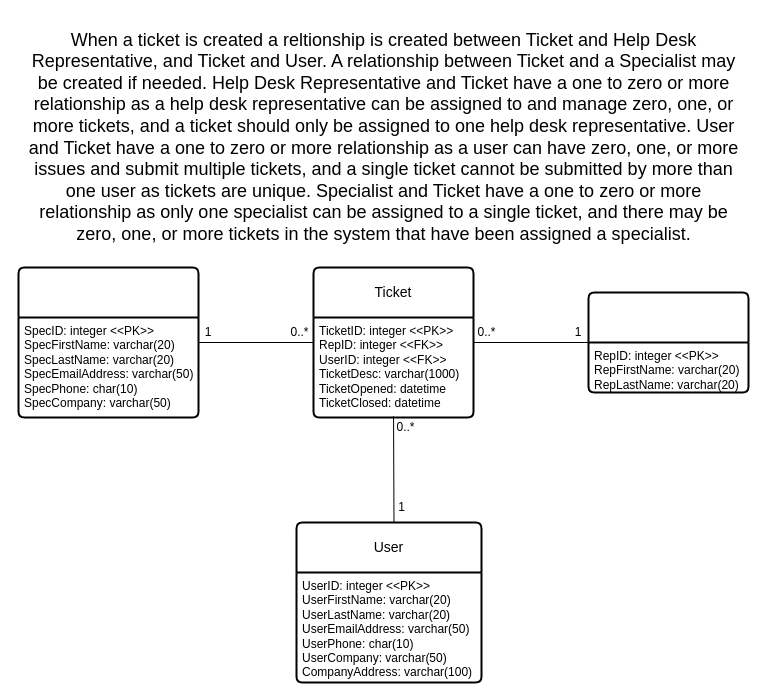
This 766x700 diagram has some shape labels left out. The box of each missing label's shape, as (x1, y1, x2, y2) in pixels:
Help Desk Representative: (587, 291, 749, 393)
Specialist: (17, 266, 199, 418)
